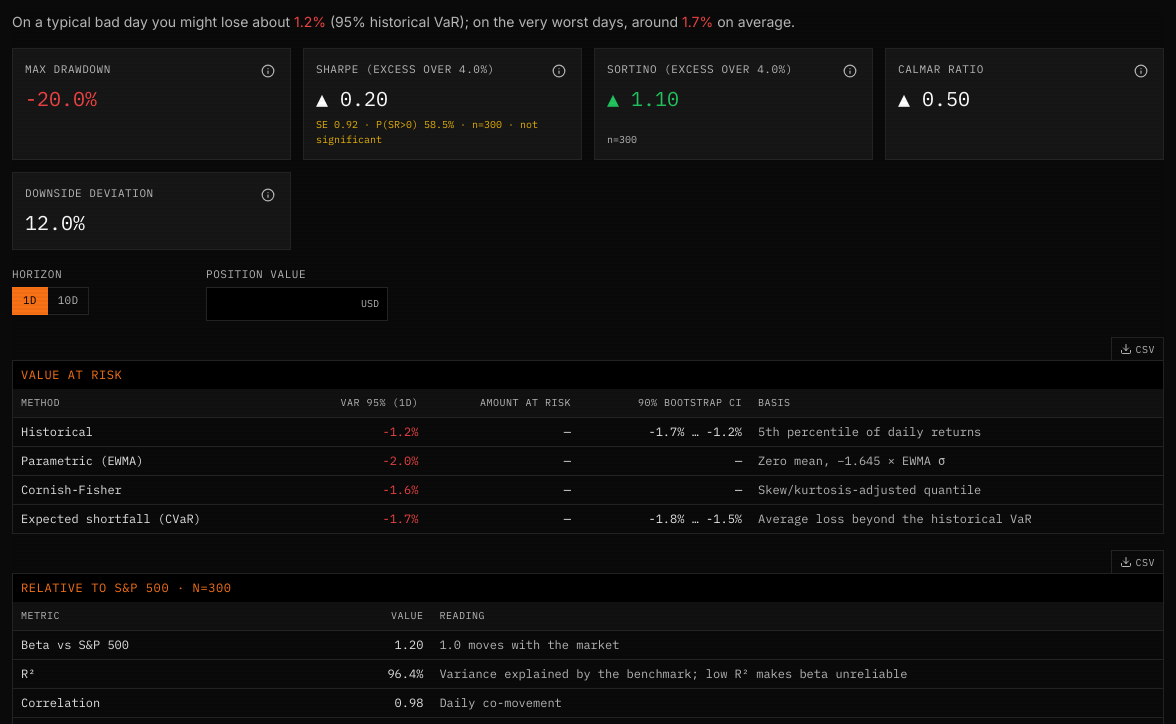
Test: RiskSection › switches the VaR table to a 10-day horizon and prices a position
Click the button "10D" at (68, 300), box [47, 286, 89, 314]
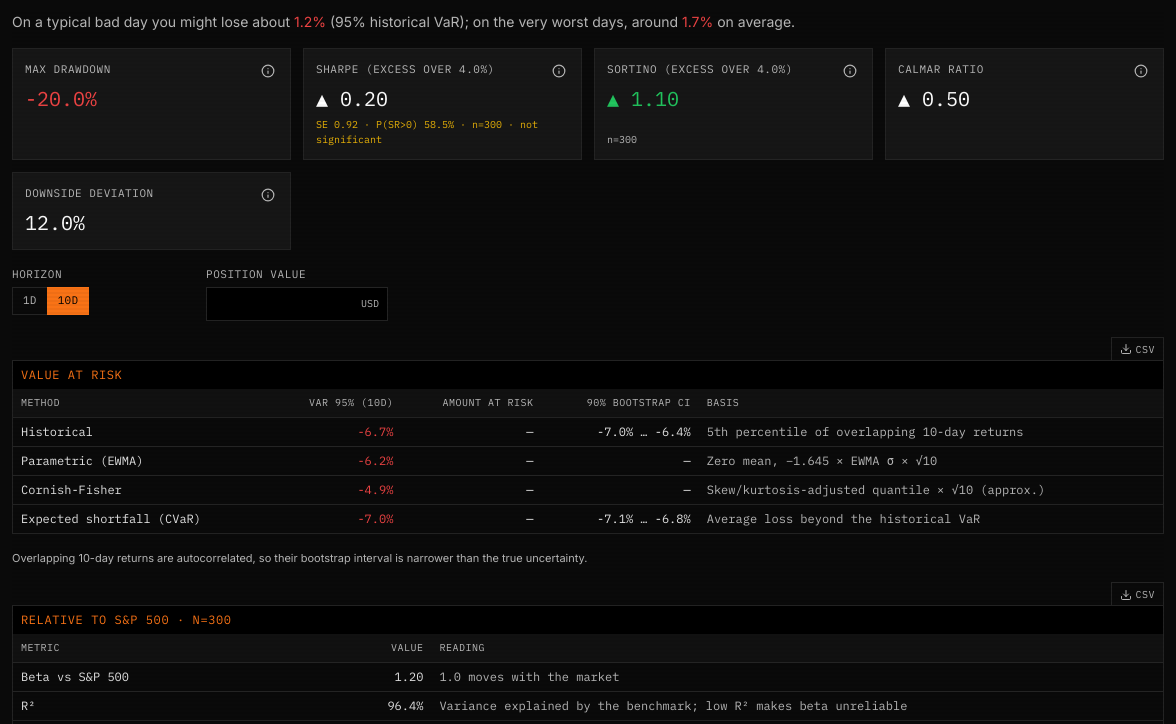
expect the column heading "VaR 95% (10D)" is shown: met, box [270, 388, 401, 417]
Type "10000" into the number field labelled "Position value" at (284, 304), box [207, 288, 361, 320]
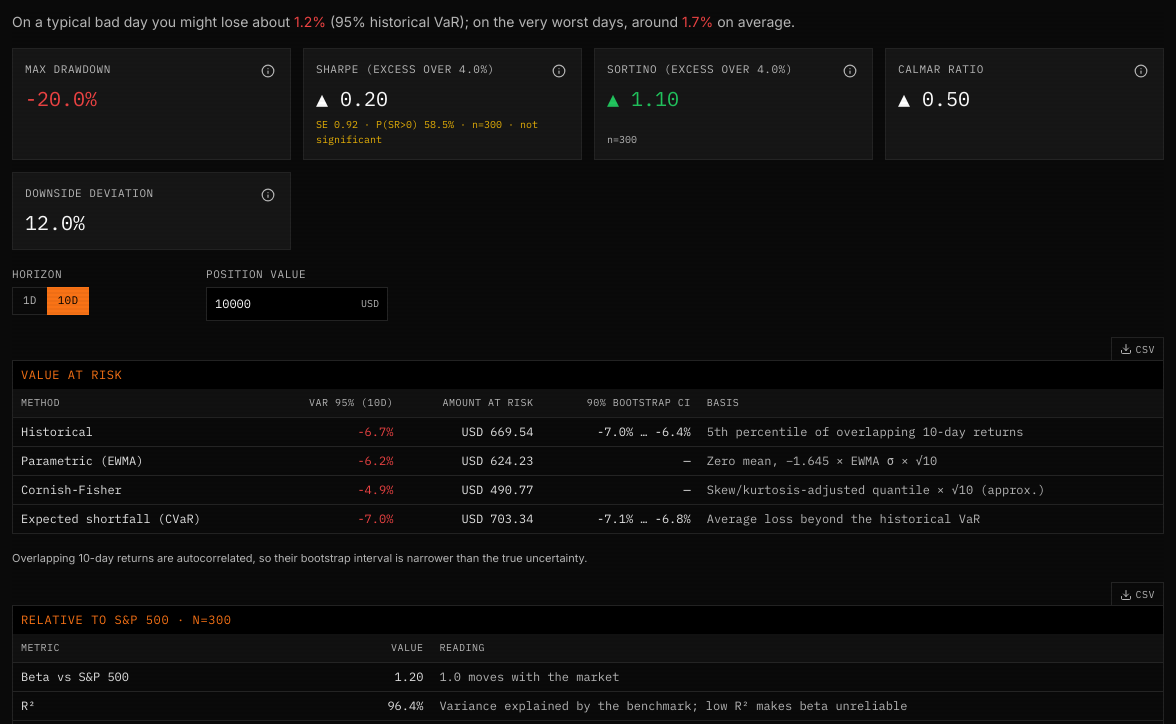
expect the text "USD 669.54" is shown: met, box [401, 417, 542, 446]
